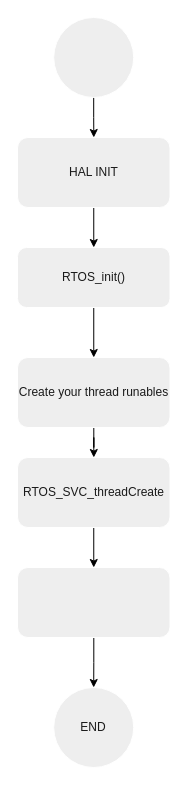
Some shapes in this 188 by 785 pixel diagram are drawn without their labels. Here are the shapes that lost their labels. From the top down, the centre of each, then its label:
the point at 93,57: Start
the point at 93,602: RTOS_SVC_schedulerStart
